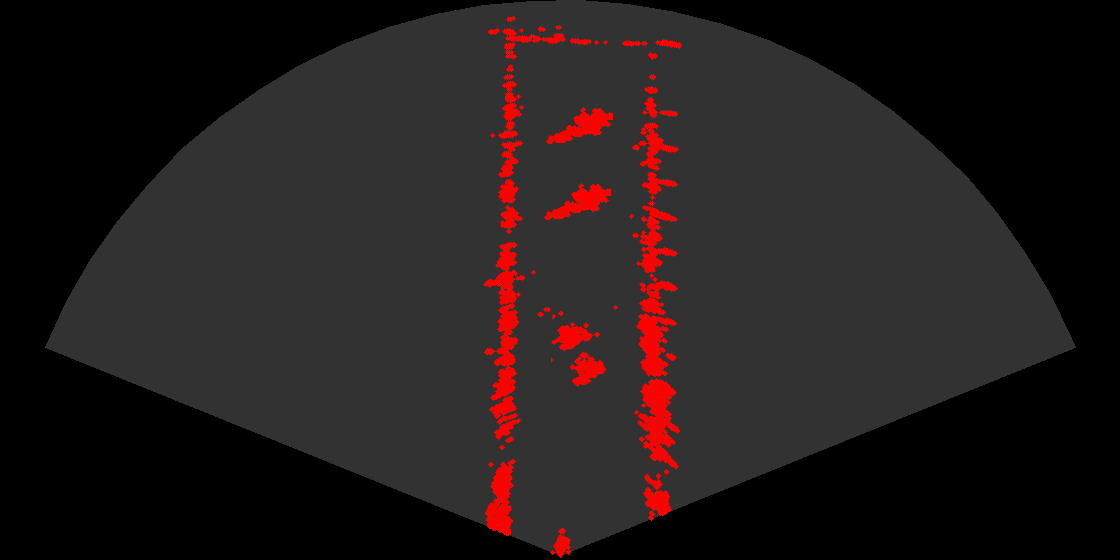cage: (551, 311, 614, 395)
frogman: (545, 101, 613, 148), (543, 177, 611, 224)
